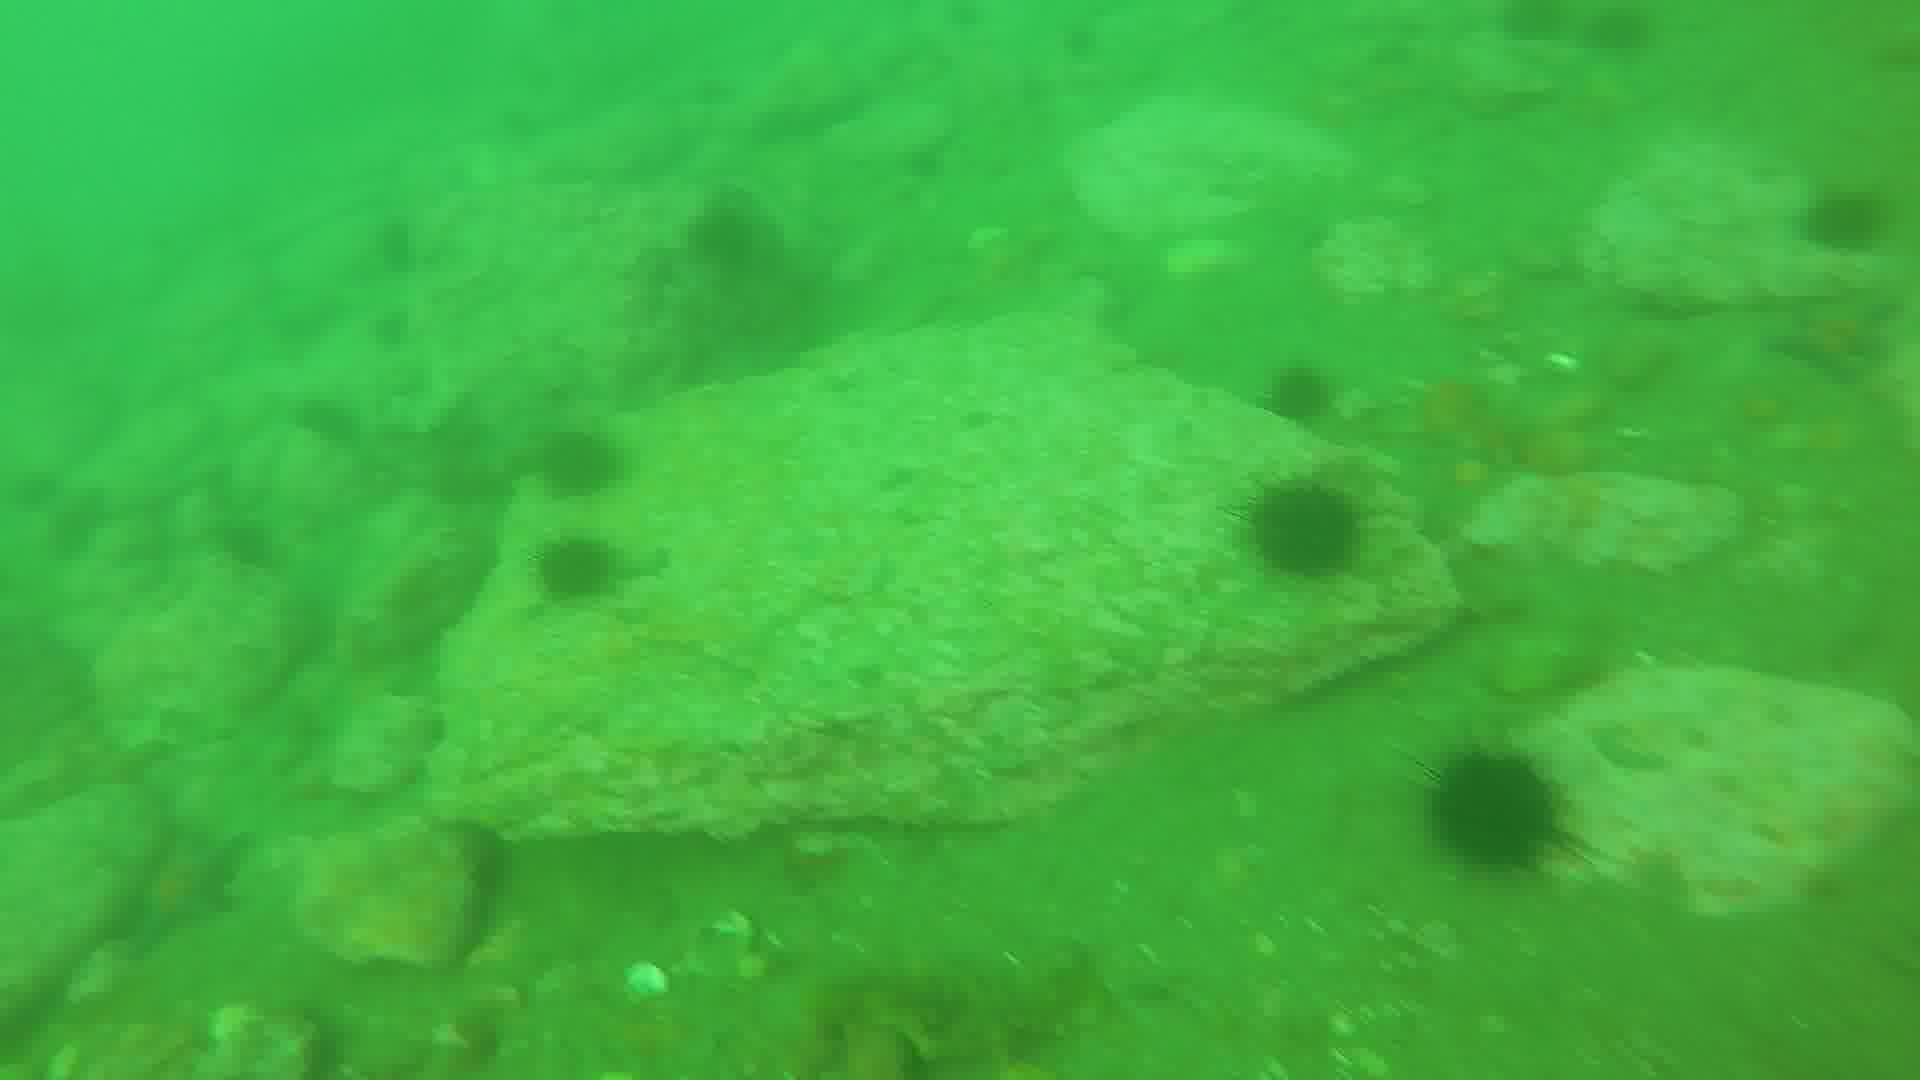echinus: (1429, 742, 1563, 874), (1251, 472, 1367, 582), (546, 427, 626, 502), (1803, 190, 1876, 262), (1263, 363, 1337, 419), (549, 539, 618, 596)
starfish: (127, 823, 249, 948)
